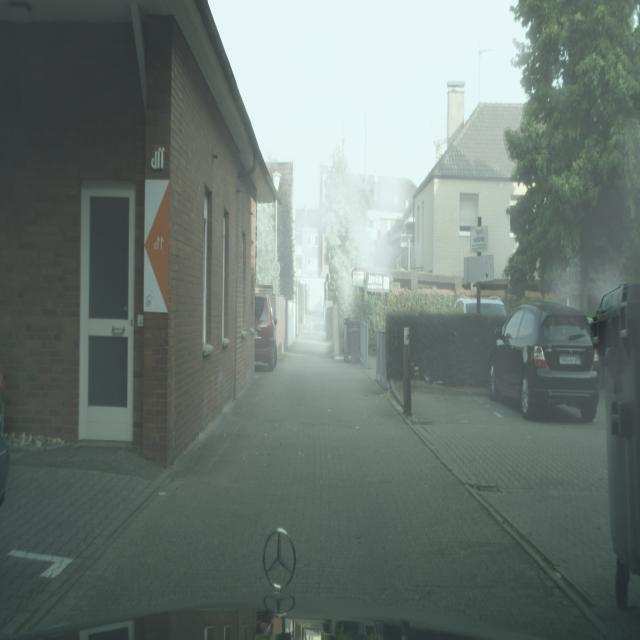car: (488, 302, 600, 422), (453, 290, 507, 327), (255, 291, 278, 372)
